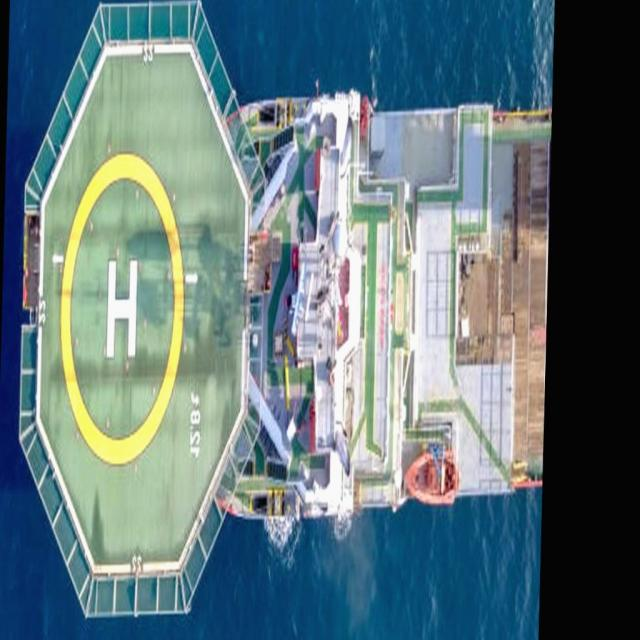helipad: (56, 150, 185, 470)
